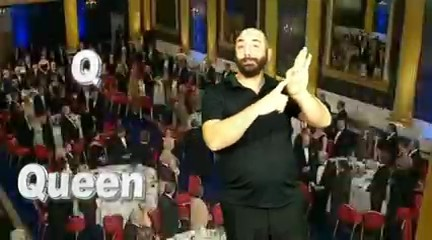Q: (257, 42, 324, 120)
